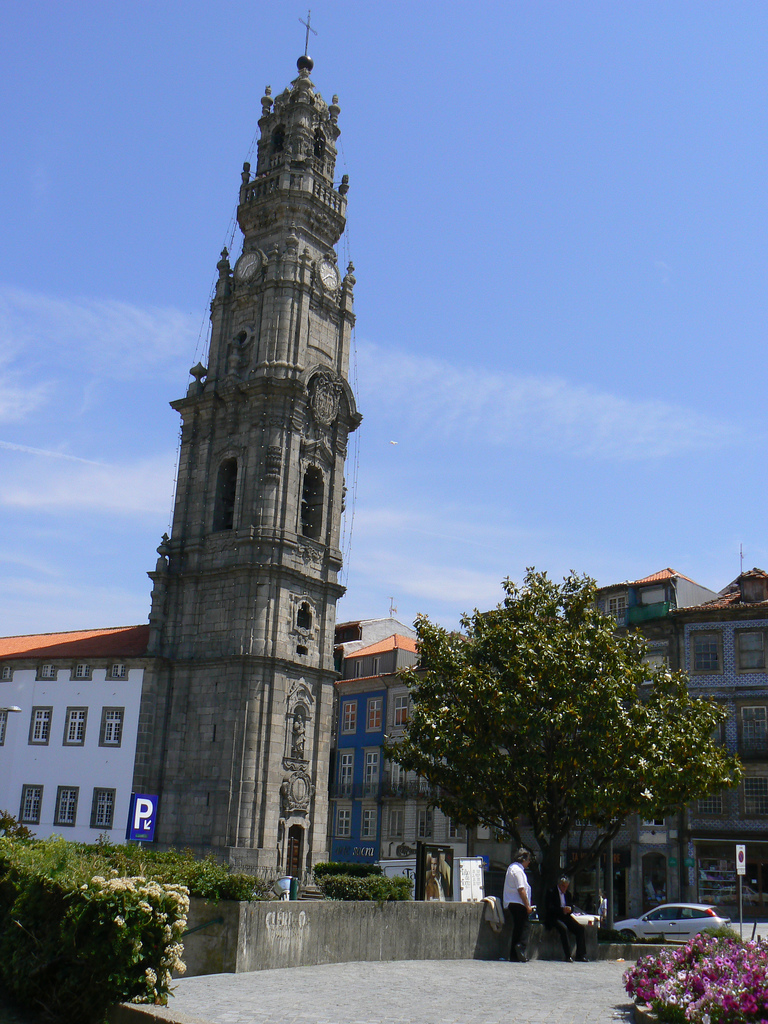clerigos: (144, 14, 362, 881)
